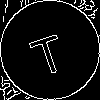T: (25, 25, 69, 78)
